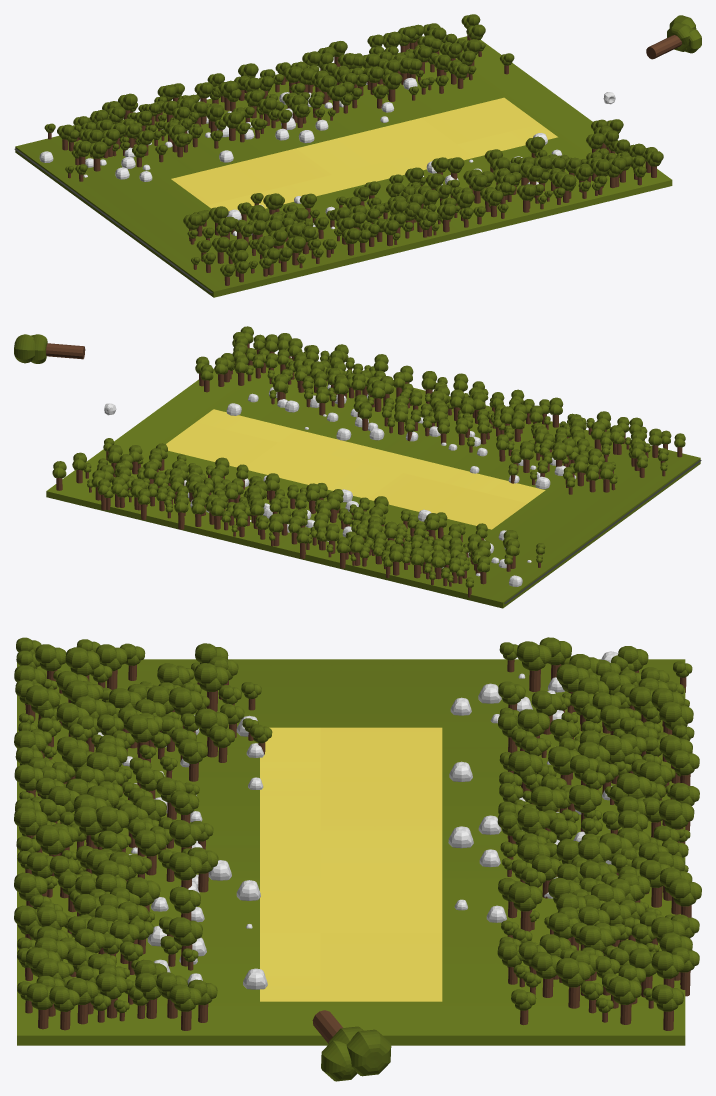
Rendered from Escenario1.glb.
3 renders of one model, top to bottom at view 1: azimuth 30°, elevation 25°; view 2: azimuth 150°, elevation 25°; view 3: azimuth 270°, elevation 25°, orthographic. The views are drawn at different scales.
Visible parts, largest first — view 1: Escenario1, arbol, forest; view 2: Escenario1, arbol, forest; view 3: Escenario1, arbol (×46).
Boxes of the visible parts, x1,y1,x2,y2 form: Escenario1: (15, 36, 672, 297); arbol: (646, 15, 701, 59); forest: (14, 148, 212, 293); Escenario1: (46, 349, 700, 608); arbol: (14, 334, 85, 363); forest: (504, 460, 701, 603); Escenario1: (17, 659, 685, 1045); arbol (×46): (14, 641, 701, 1081).
Size of the model in its own units: 102 by 10.71 by 61.78.
Materials: 1 (1 with a texture image).
